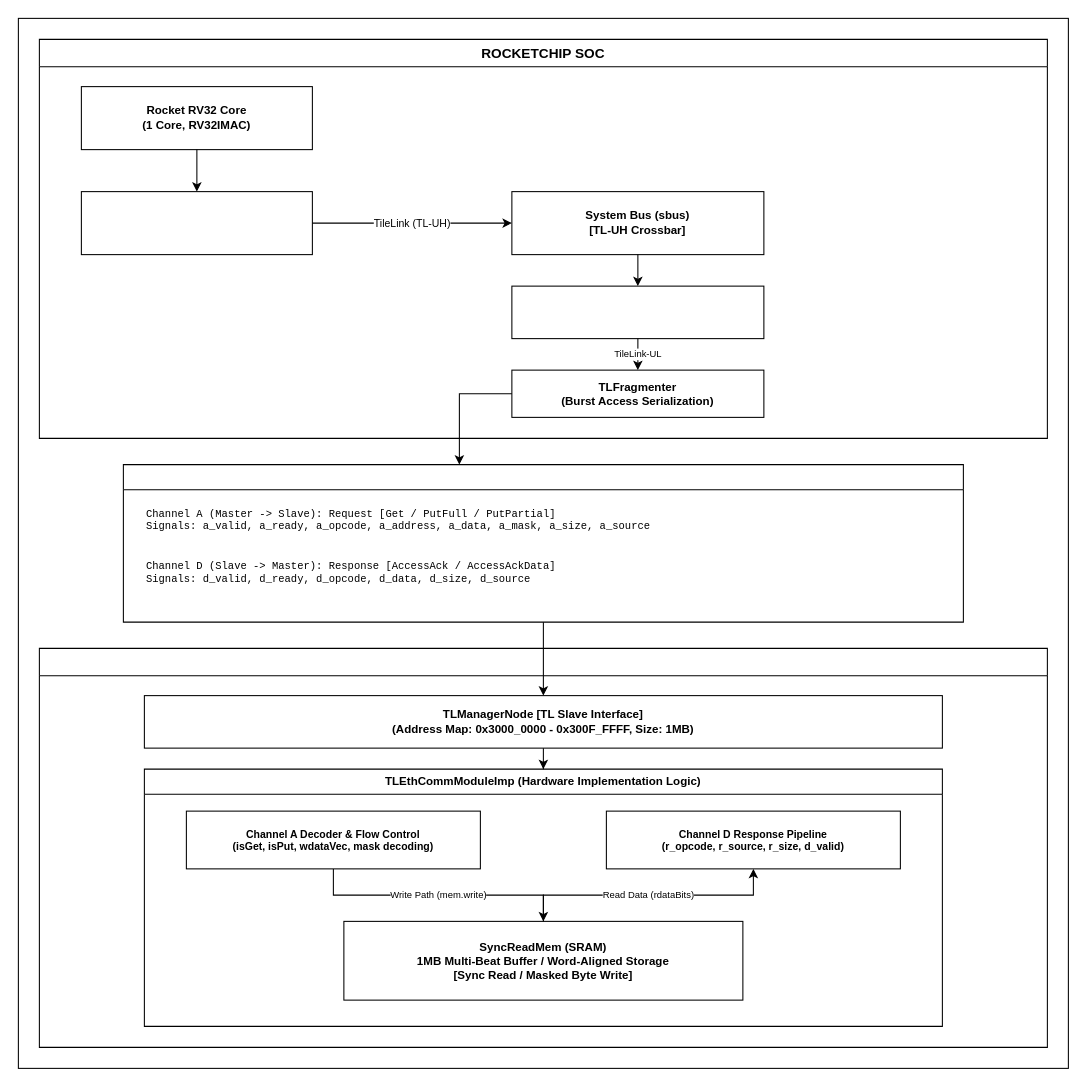
This 1087x1087 diagram has some shape labels left out. The box of each missing label's shape, as (x1, y1, x2, y2) in pixels:
CUSTOM IP: TLEthComm: (38, 647, 1047, 1047)
L1 Data / Instruction Caches: (80, 191, 312, 255)
Peripheral Bus (pbus) [TL Master Interface]: (511, 285, 764, 339)
TILELINK-UL INTERCONNECT & PROTOCOL SIGNALS: (122, 464, 963, 622)
